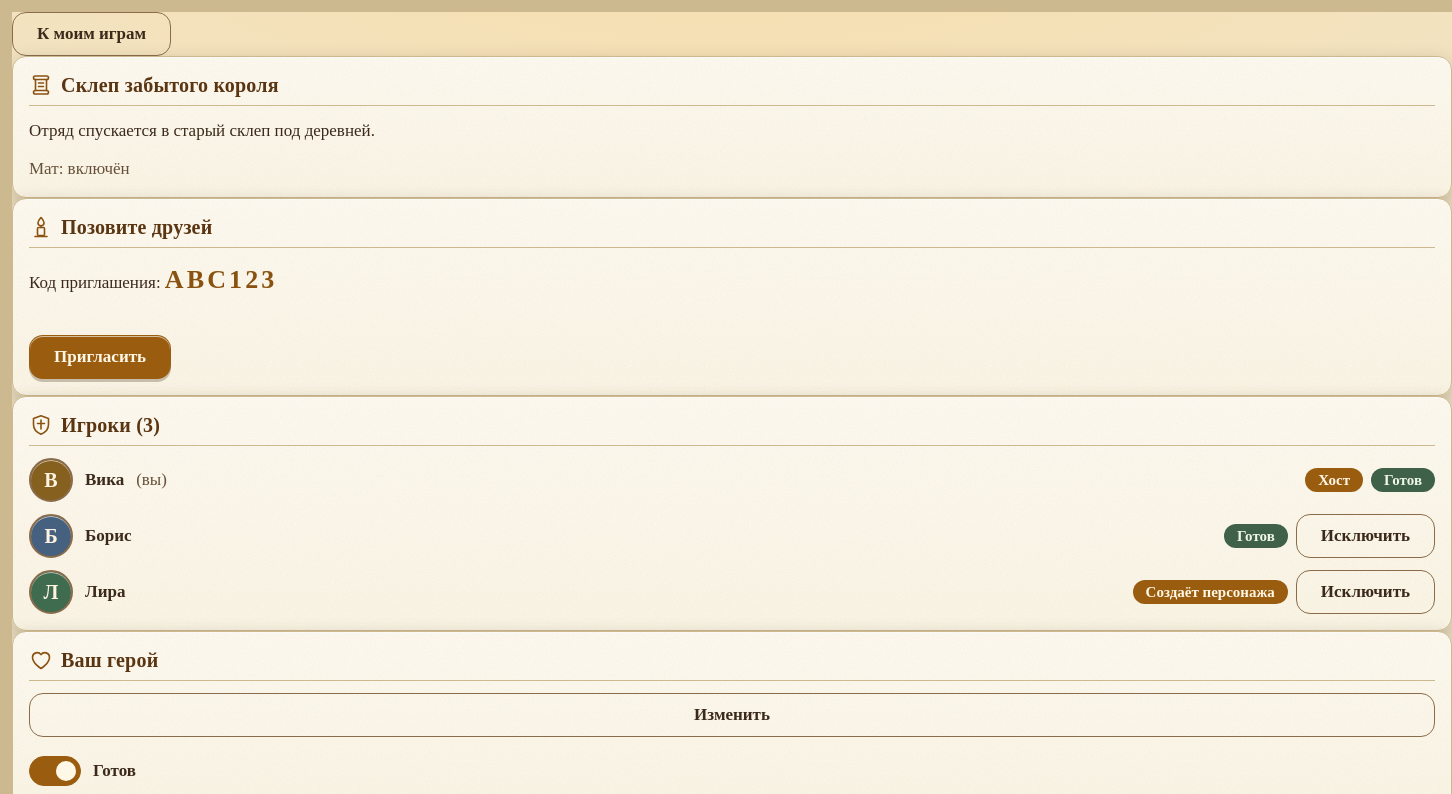
«Пригласить» — только хост › бот не настроен: ссылки нет, копируется код
Click the button "Пригласить": click(100, 357) left=29, top=335, right=171, bottom=379
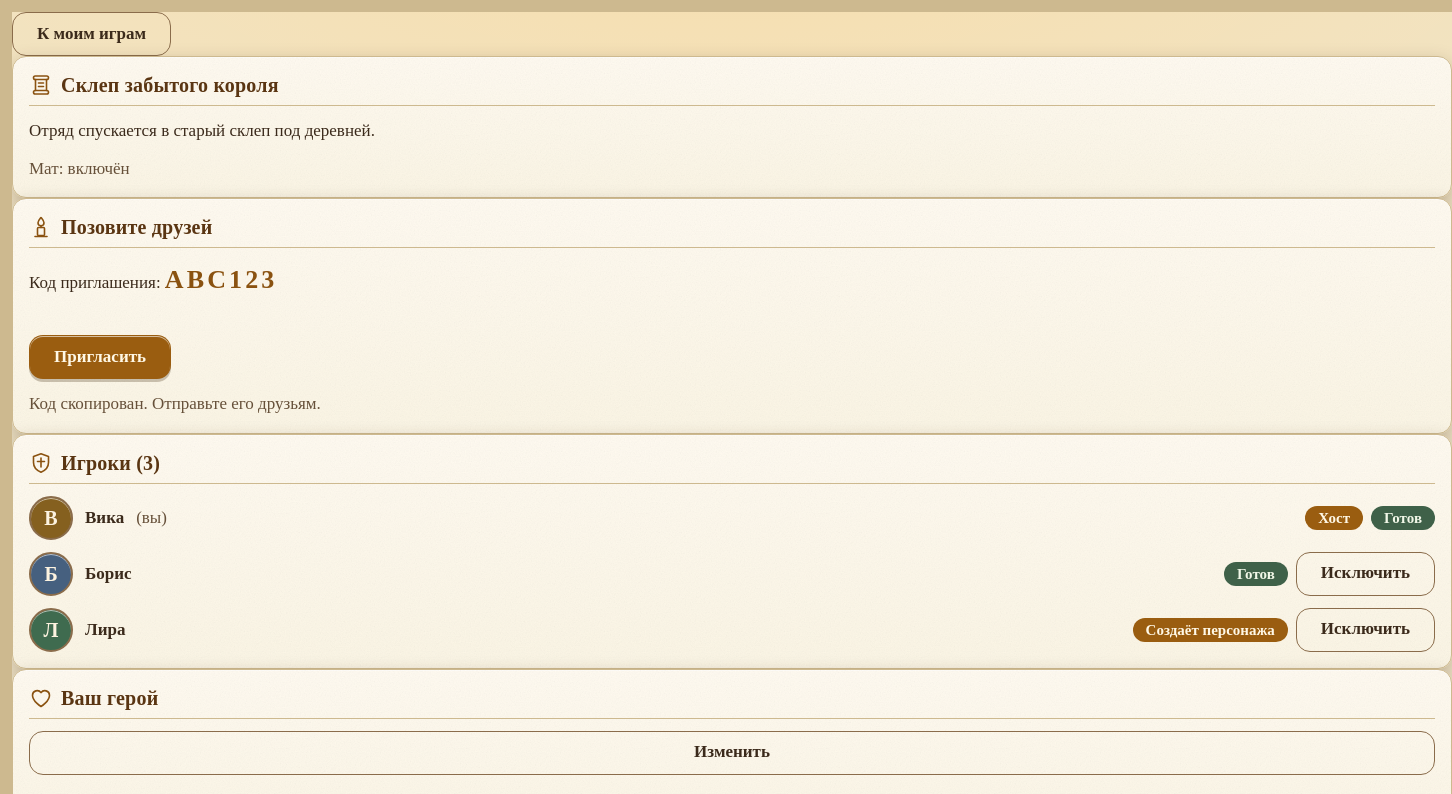
Check: the message shows "Код скопирован", box left=29, top=394, right=321, bottom=413
